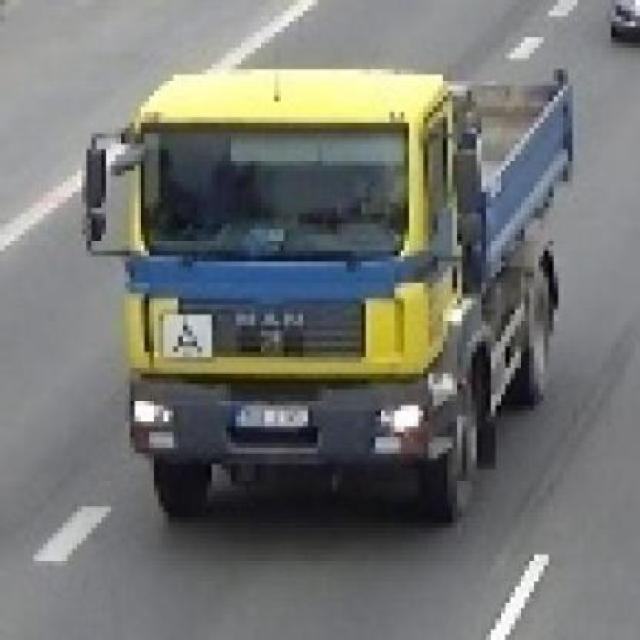truck: (80, 61, 574, 526)
